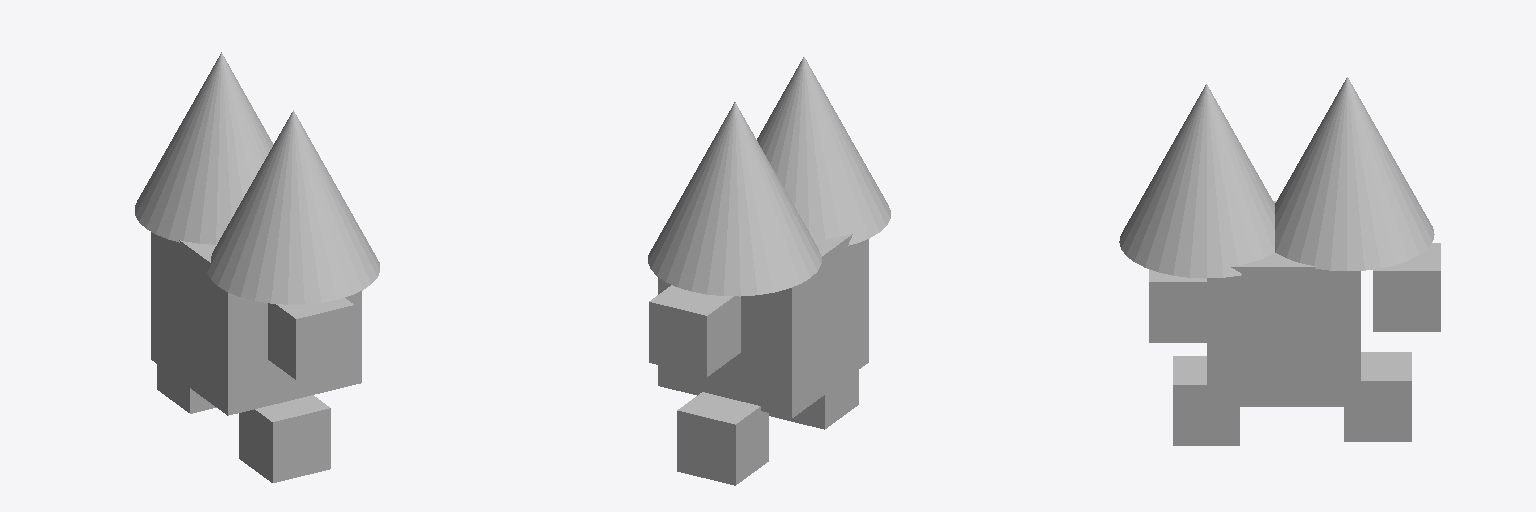
The model's file is monstruo2.obj.
3 renders of one model, left to right at view 1: azimuth 30°, elevation 25°; view 2: azimuth 150°, elevation 25°; view 3: azimuth 270°, elevation 25°, orthographic.
Visible parts, largest first — view 1: Cone, Cube_Cube.005, Cone.001, Cube.001_Cube.006, Cube.004_Cube.009, Cube.002_Cube.007; view 2: Cone.001, Cube_Cube.005, Cone, Cube.002_Cube.007, Cube.003_Cube.008, Cube.001_Cube.006; view 3: Cube_Cube.005, Cone.001, Cone, Cube.002_Cube.007, Cube.003_Cube.008, Cube.001_Cube.006, Cube.004_Cube.009.
Part boxes in pixels (left/top/right/bottom): Cone: left=207, top=110, right=379, bottom=304; Cube_Cube.005: left=151, top=232, right=361, bottom=415; Cone.001: left=135, top=52, right=273, bottom=244; Cube.001_Cube.006: left=239, top=395, right=330, bottom=482; Cube.004_Cube.009: left=268, top=298, right=354, bottom=379; Cube.002_Cube.007: left=157, top=364, right=216, bottom=413; Cone.001: left=648, top=102, right=821, bottom=296; Cube_Cube.005: left=658, top=234, right=868, bottom=418; Cone: left=757, top=57, right=890, bottom=245; Cube.002_Cube.007: left=677, top=392, right=768, bottom=485; Cube.003_Cube.008: left=649, top=285, right=740, bottom=376; Cube.001_Cube.006: left=769, top=370, right=858, bottom=429; Cube_Cube.005: left=1207, top=201, right=1360, bottom=406; Cone.001: left=1275, top=77, right=1434, bottom=270; Cone: left=1119, top=84, right=1274, bottom=278; Cube.002_Cube.007: left=1344, top=352, right=1411, bottom=441; Cube.003_Cube.008: left=1373, top=243, right=1440, bottom=331; Cube.001_Cube.006: left=1173, top=356, right=1239, bottom=445; Cube.004_Cube.009: left=1149, top=269, right=1206, bottom=342.
Size of the model in its own units: 5.22 by 11.73 by 9.53.